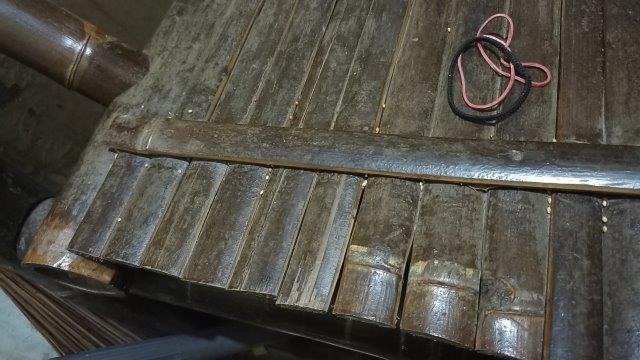karet: (447, 13, 552, 123)
